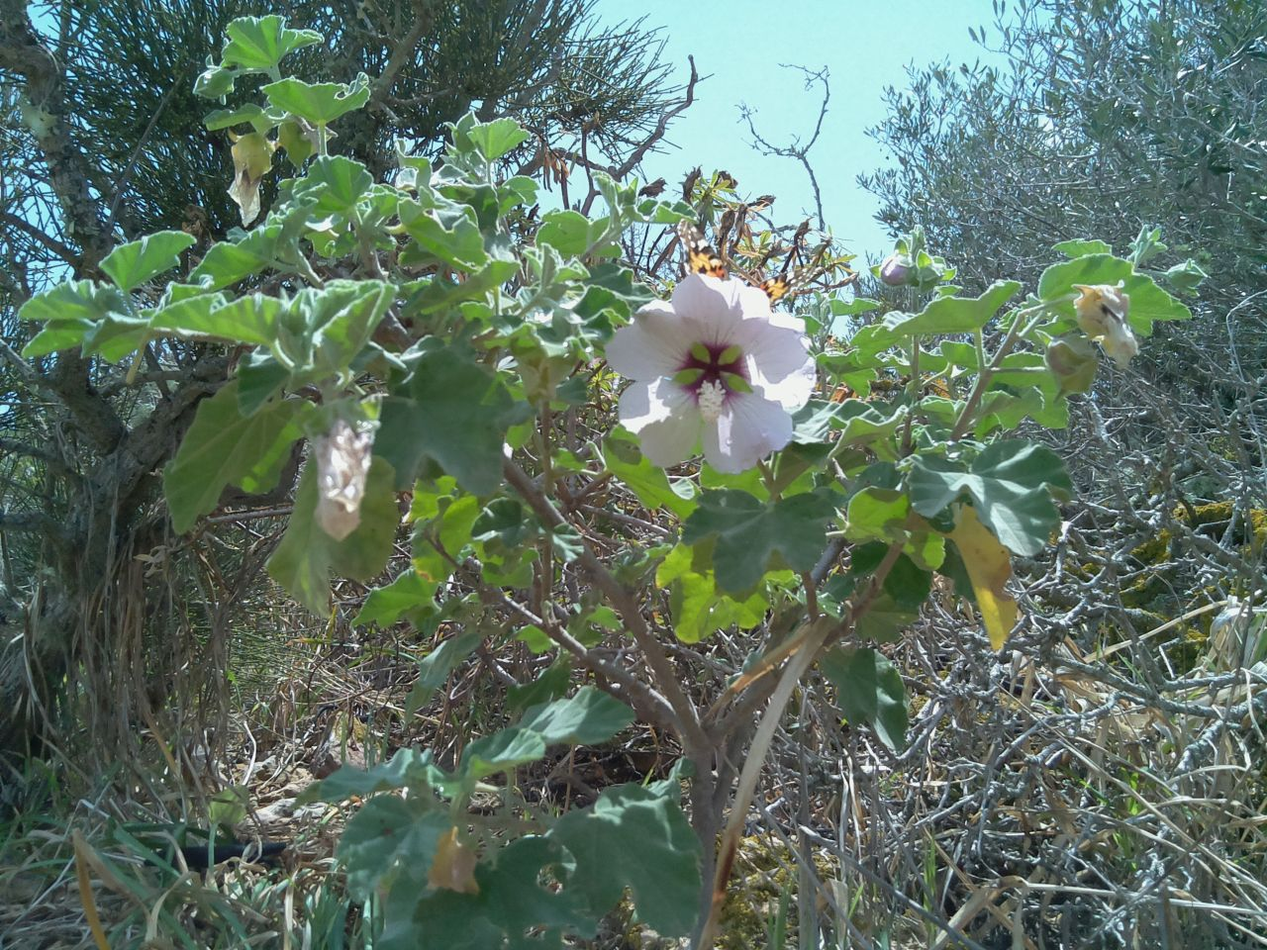Vanessa cardui: (675, 221, 803, 332)
